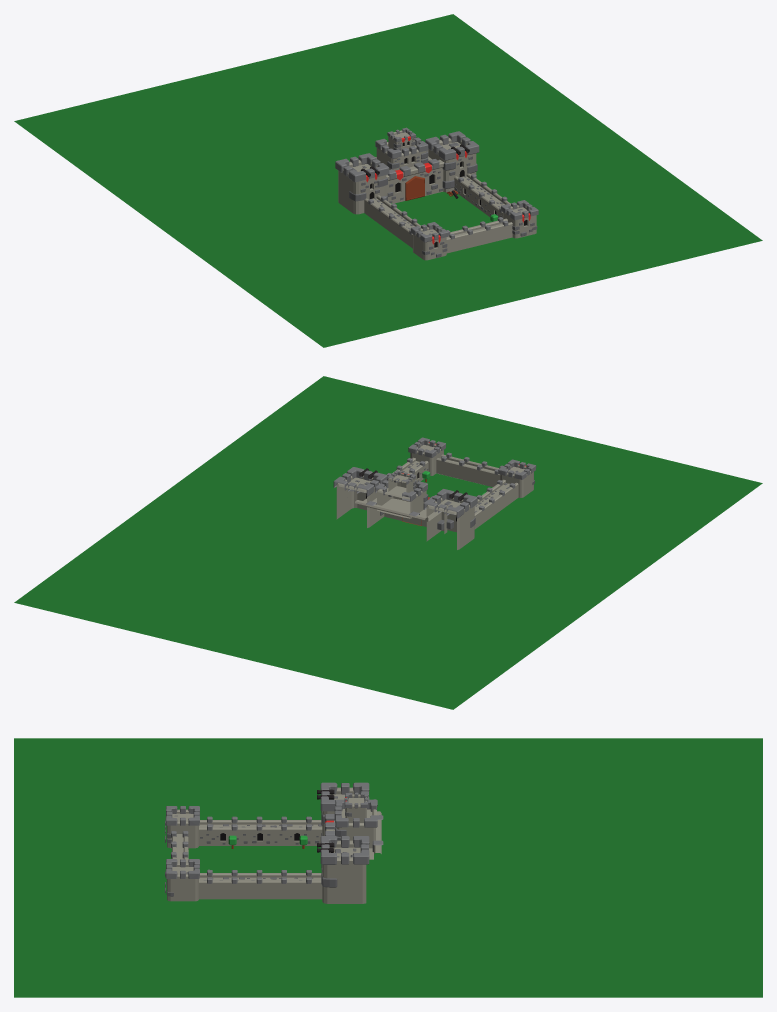
The model's file is castel.fbx.
3 views of the same model, one above another, from view 1: azimuth 30°, elevation 25°; view 2: azimuth 150°, elevation 25°; view 3: azimuth 270°, elevation 25° (orthographic). The views are drawn at different scales.
Visible parts, largest first — view 1: Cube.001; view 2: Cube.001; view 3: Cube.001.
Part boxes in pixels (x1,y1,x2,y2): Cube.001: [14, 14, 762, 347]; Cube.001: [14, 376, 762, 709]; Cube.001: [14, 738, 762, 997].
Size of the model in its own units: 7809 by 975 by 9535.
